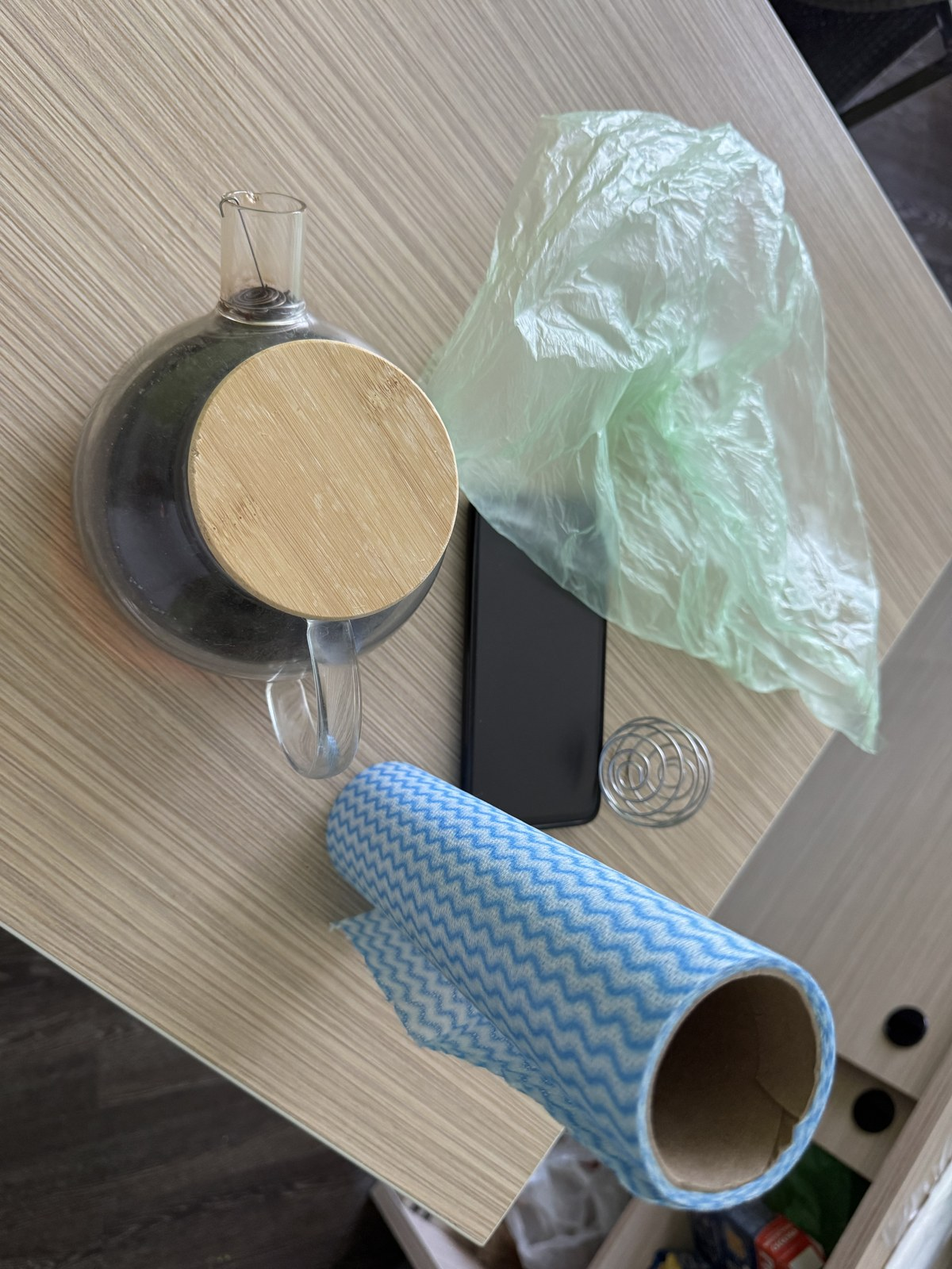cell phone: (458, 500, 608, 830)
